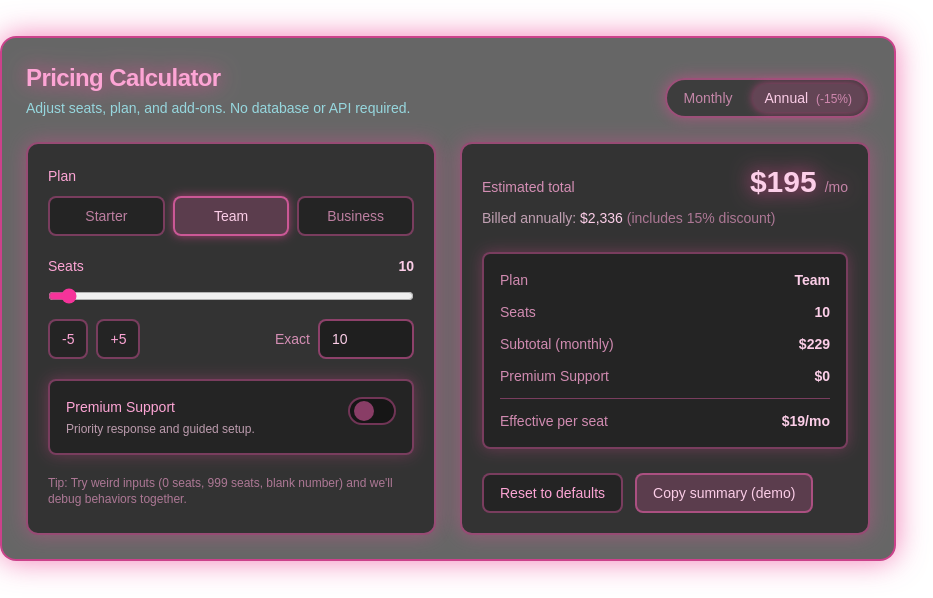
Test: PricingCalculator › should restore plan, seats, annual billing, and premium support to defaults
# Move every input away from its default.
Click the button "Business" at x=356, y=216, box [297, 196, 414, 236]
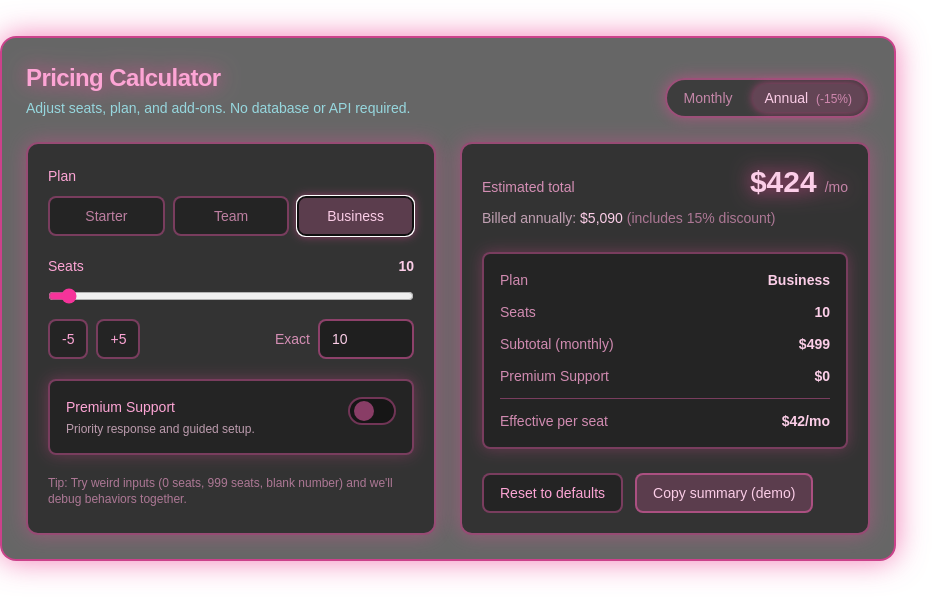
Click the button named "Toggle premium support" at x=372, y=411, box [348, 397, 396, 425]
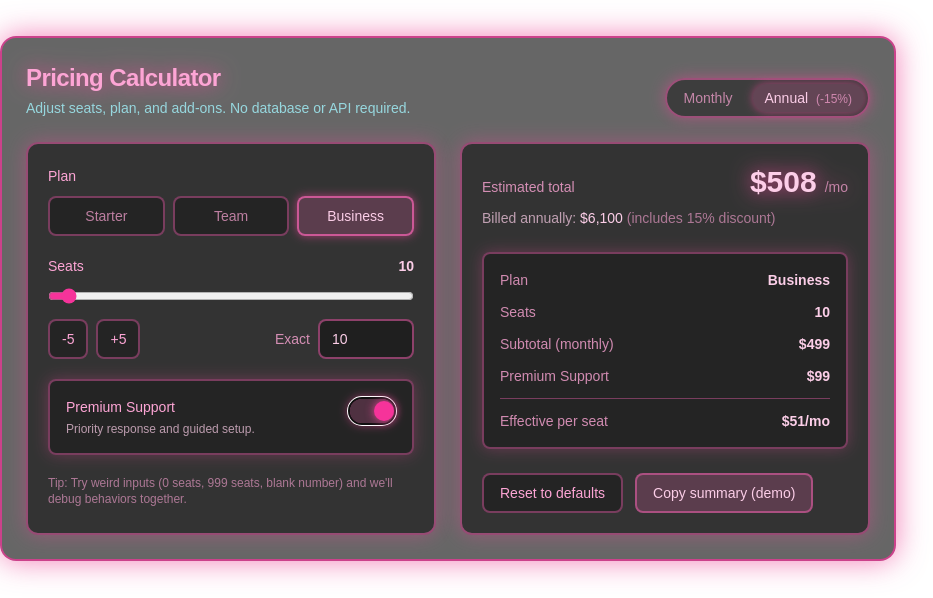
Click the button "Monthly" at x=708, y=98, box [672, 84, 744, 112]
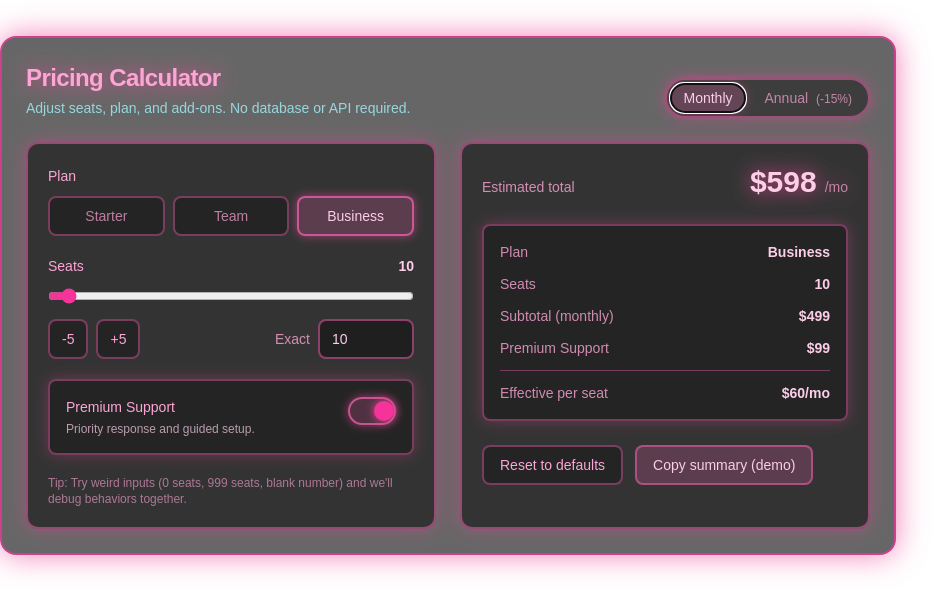
Click the button "Reset to defaults" at x=553, y=465, box [482, 445, 623, 485]
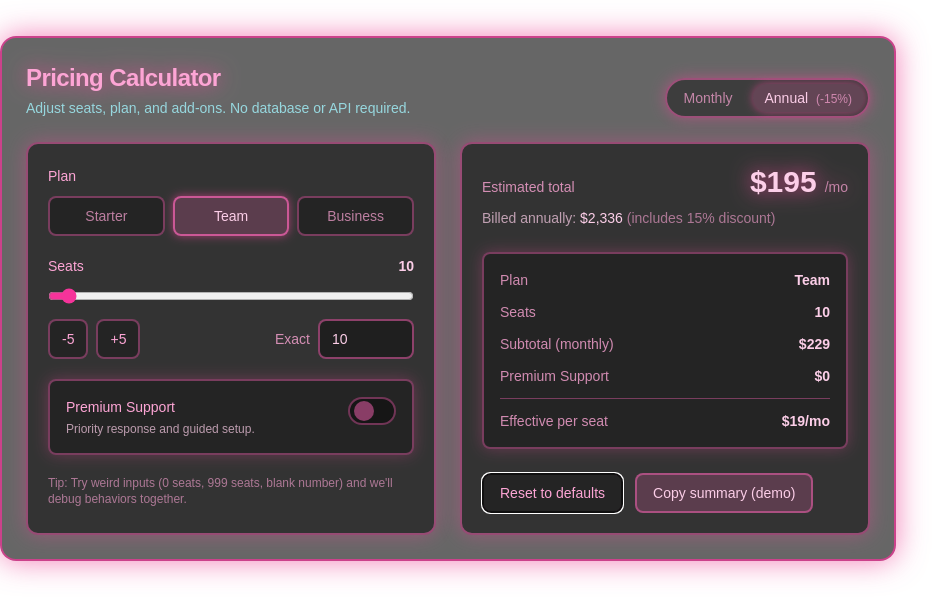
Now the text "Billed annually: $2,336 (includes 15% discount)" is shown, box [482, 210, 775, 226]
